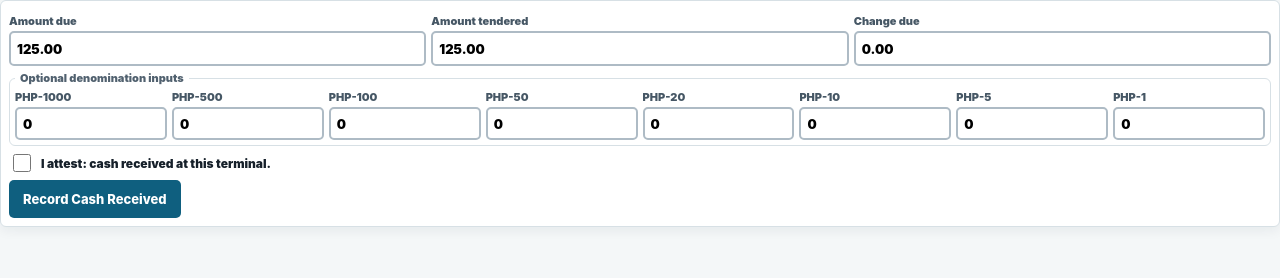
Test: CashCapturePanel › rejects amount tendered below amount due
This screenshot has width=1280, height=278.
Replace the text in the field labelled "Amount tendered" with "100" at (640, 48), box x1=431 y1=31 x2=849 y2=66
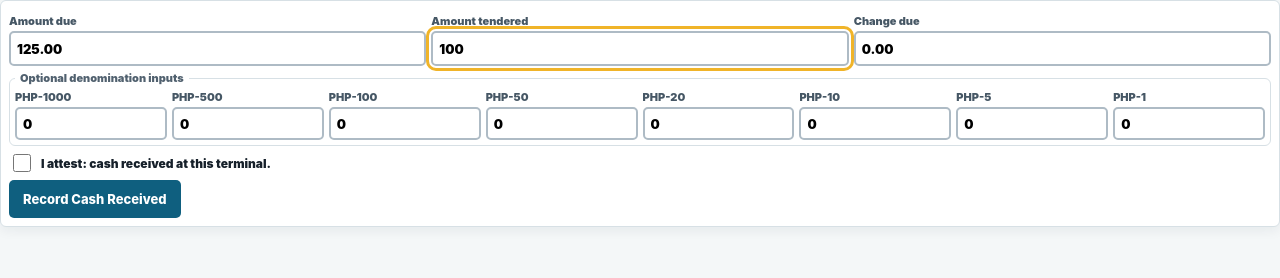
Click the checkbox labelled "I attest: cash received at this terminal." at (22, 163), box x1=13 y1=154 x2=31 y2=172
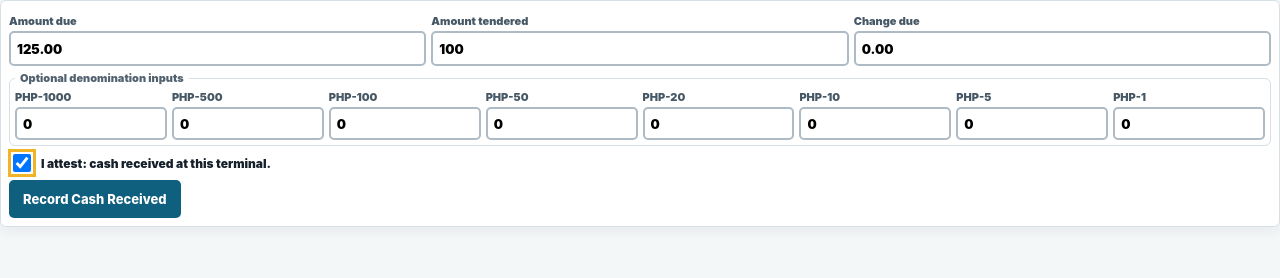
Click the button "Record Cash Received" at (95, 199), box x1=9 y1=180 x2=180 y2=218
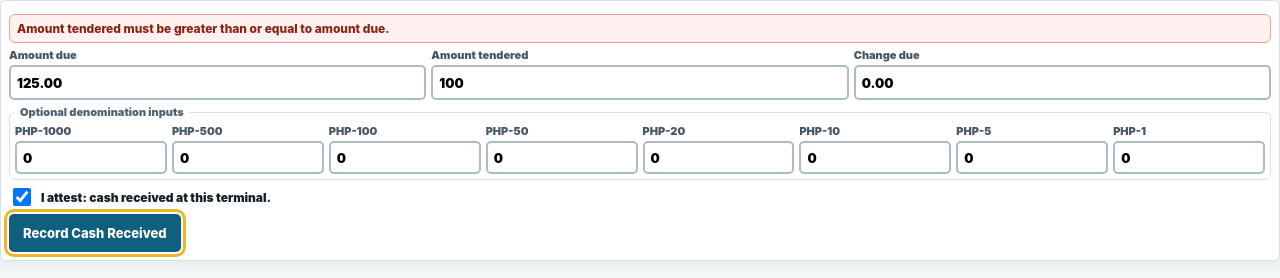
Now the text "Amount tendered must be greater than or equal to amount due." is shown, box x1=9 y1=14 x2=1271 y2=43
